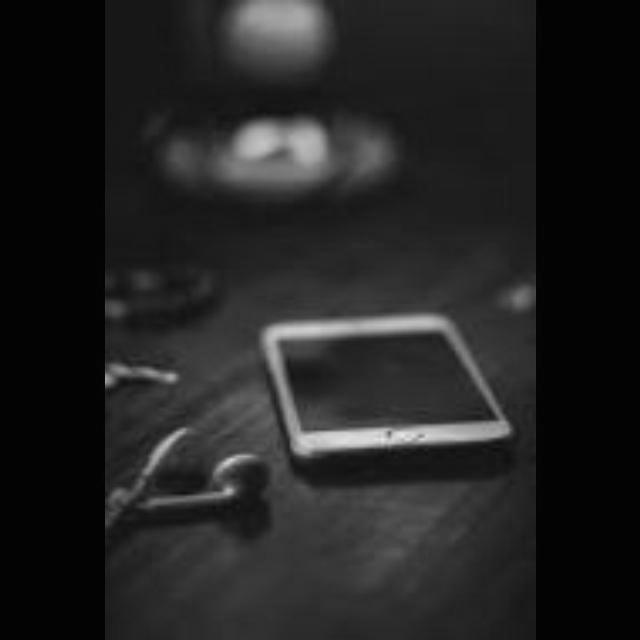fake: (250, 294, 522, 494)
